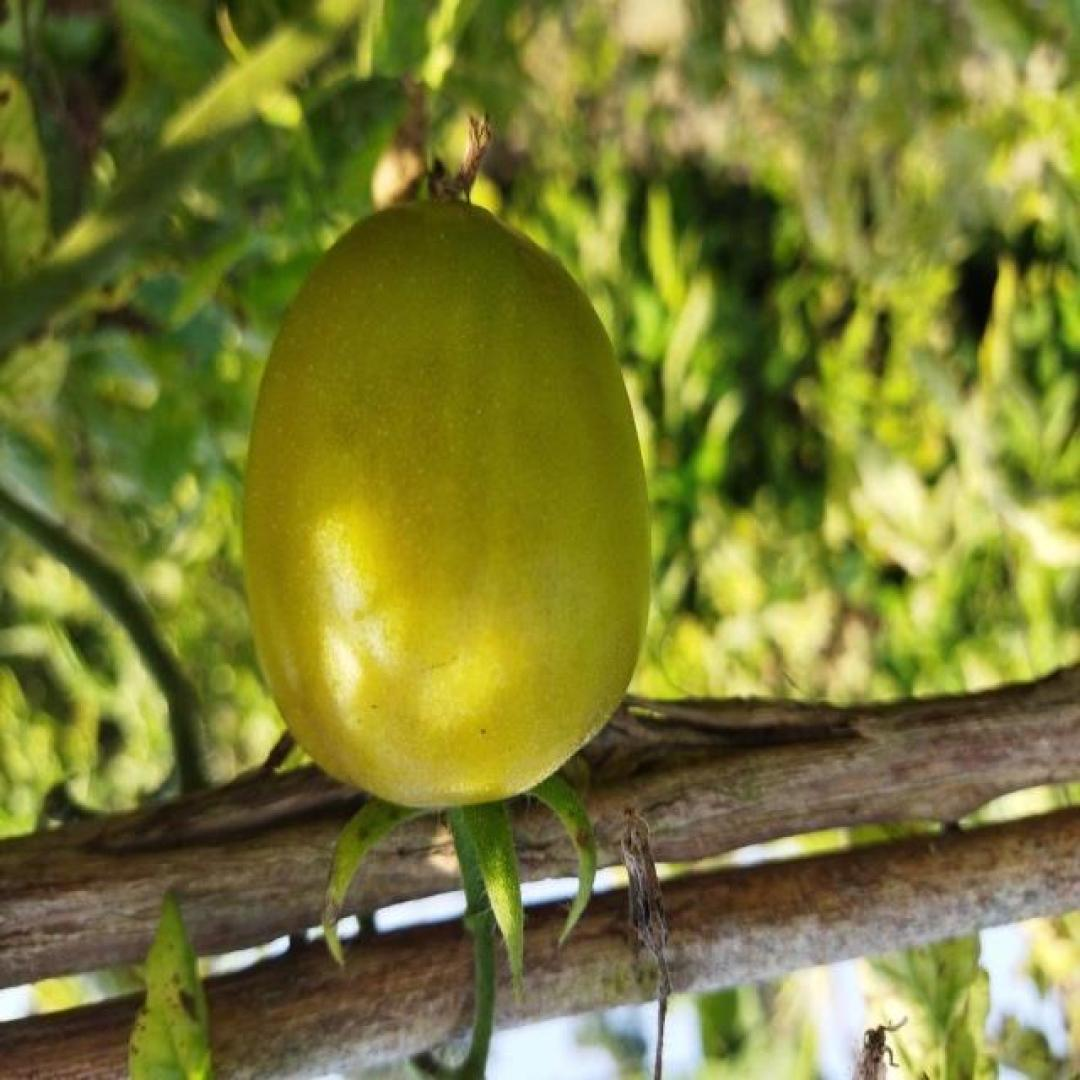setengah_matang: (239, 197, 654, 808)
